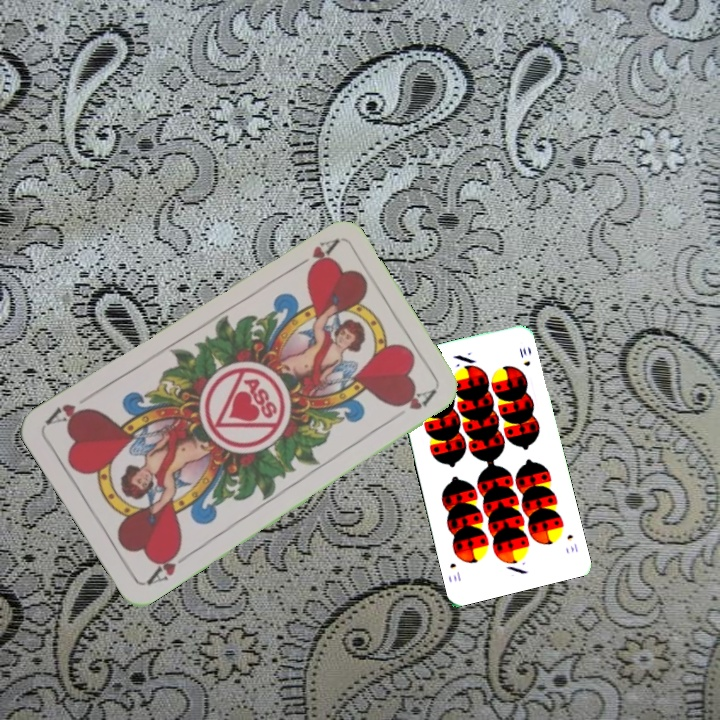HA: (142, 544, 195, 588), (286, 235, 340, 274)
S10: (563, 530, 581, 555)
